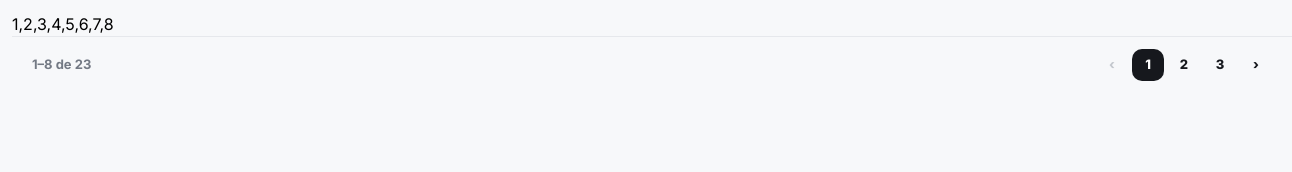
table pagination › shows 8 rows and moves to the next pages
Expected: the text with test id "visible" reads "1,2,3,4,5,6,7,8", [12,14,114,34]
Expected: the text "1–8 de 23" is shown, [32,55,91,75]
Click the button named "Página 2" at (1184, 65), box [1168,49,1200,81]
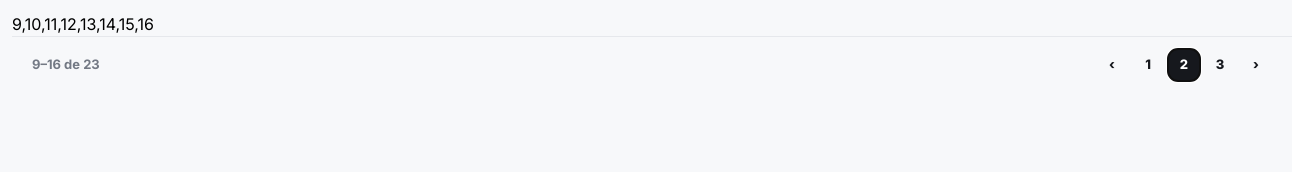
Result: the text with test id "visible" reads "9,10,11,12,13,14,15,16" at [12,14,154,34]
Click the button named "Página siguiente" at (1256, 65), box [1240,49,1272,81]
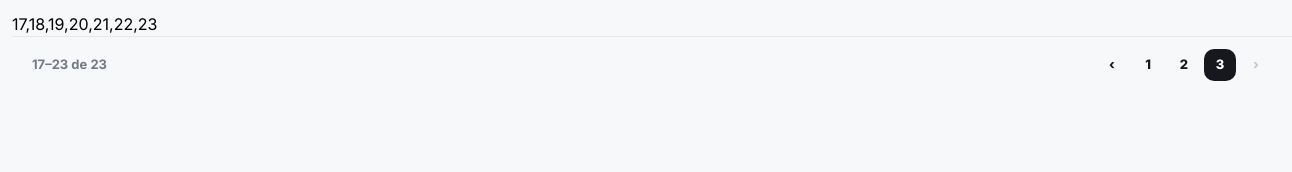
Result: the text with test id "visible" reads "17,18,19,20,21,22,23" at [12,14,157,34]
Result: the text "17–23 de 23" is shown at [32,55,107,75]
